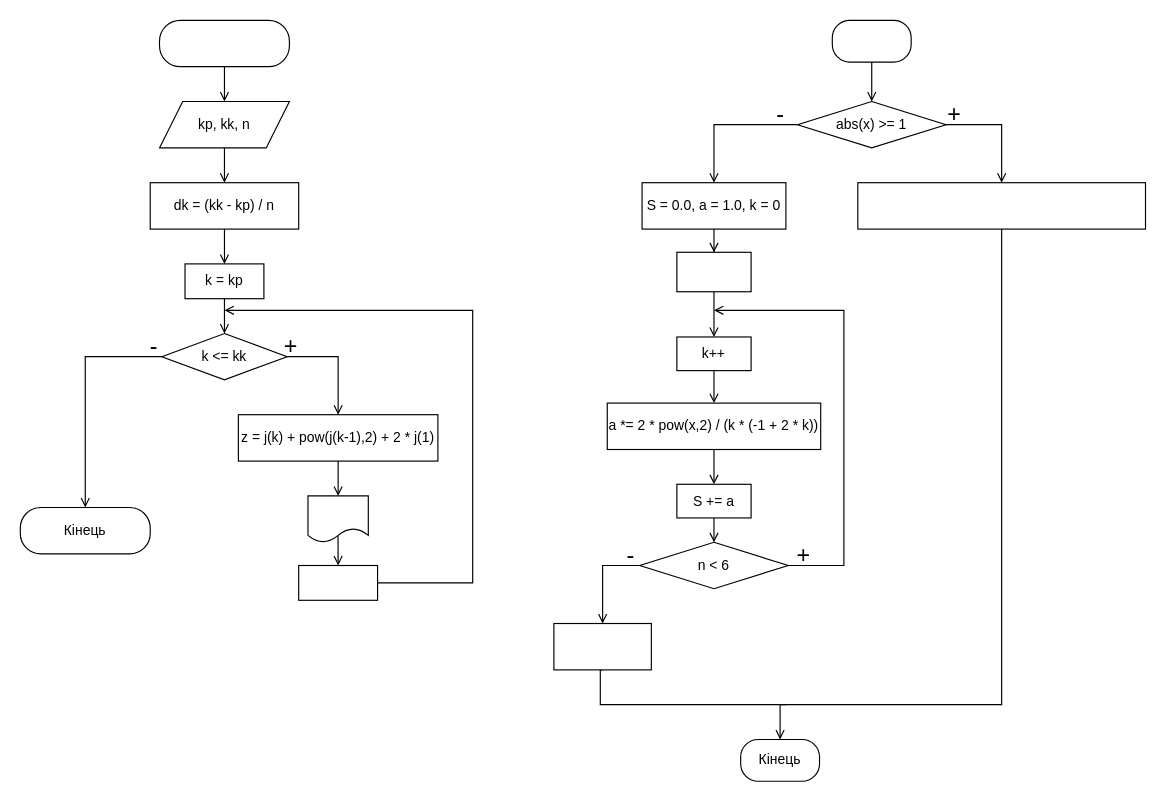
The diagram is 1166 pixels wide and 802 high, and some of its shapes have lost their labels. The shapes that lost their labels are listed below. From the top down, each one's centre as x and y in pixels, then its label:
the point at 223,43: Початок
the point at 871,40: j(x)
the point at 1001,205: return (sin(x) + 1) / (pow(cos (x),2) + exp(x))
the point at 713,271: S = a
the point at 337,518: k, z
the point at 338,582: k += dk
the point at 602,646: return S
